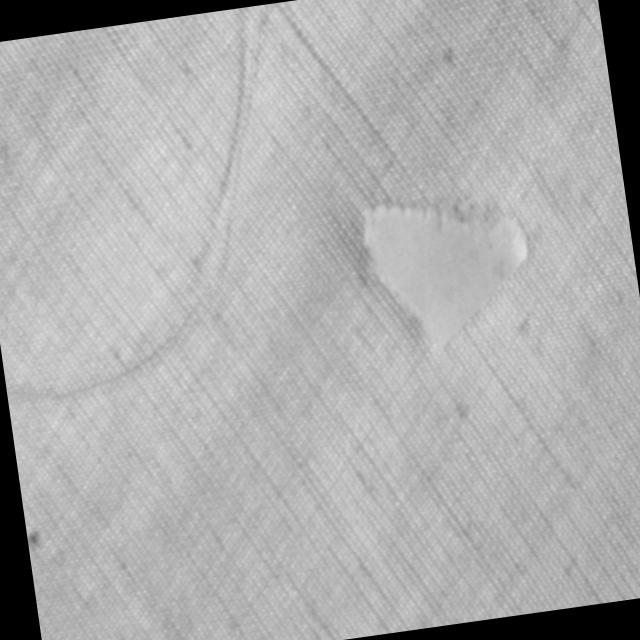objects: (0, 4, 318, 411), (353, 178, 543, 359)
